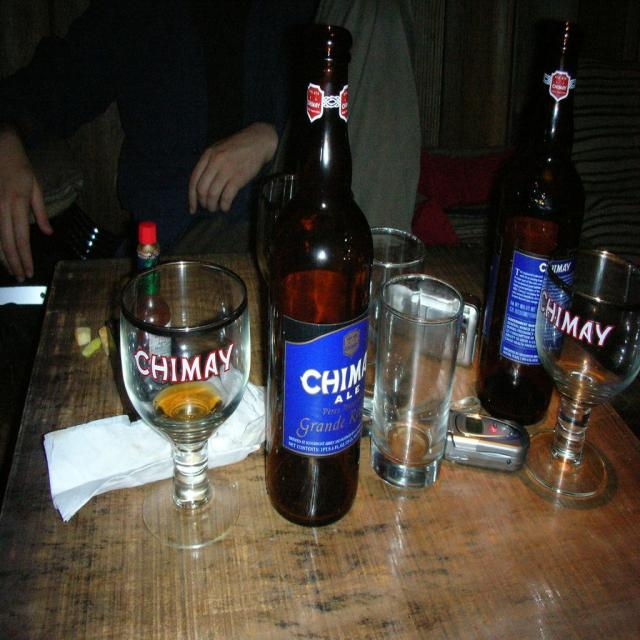chimay: (283, 320, 369, 455), (129, 342, 242, 393), (539, 291, 617, 352), (539, 260, 576, 279)
